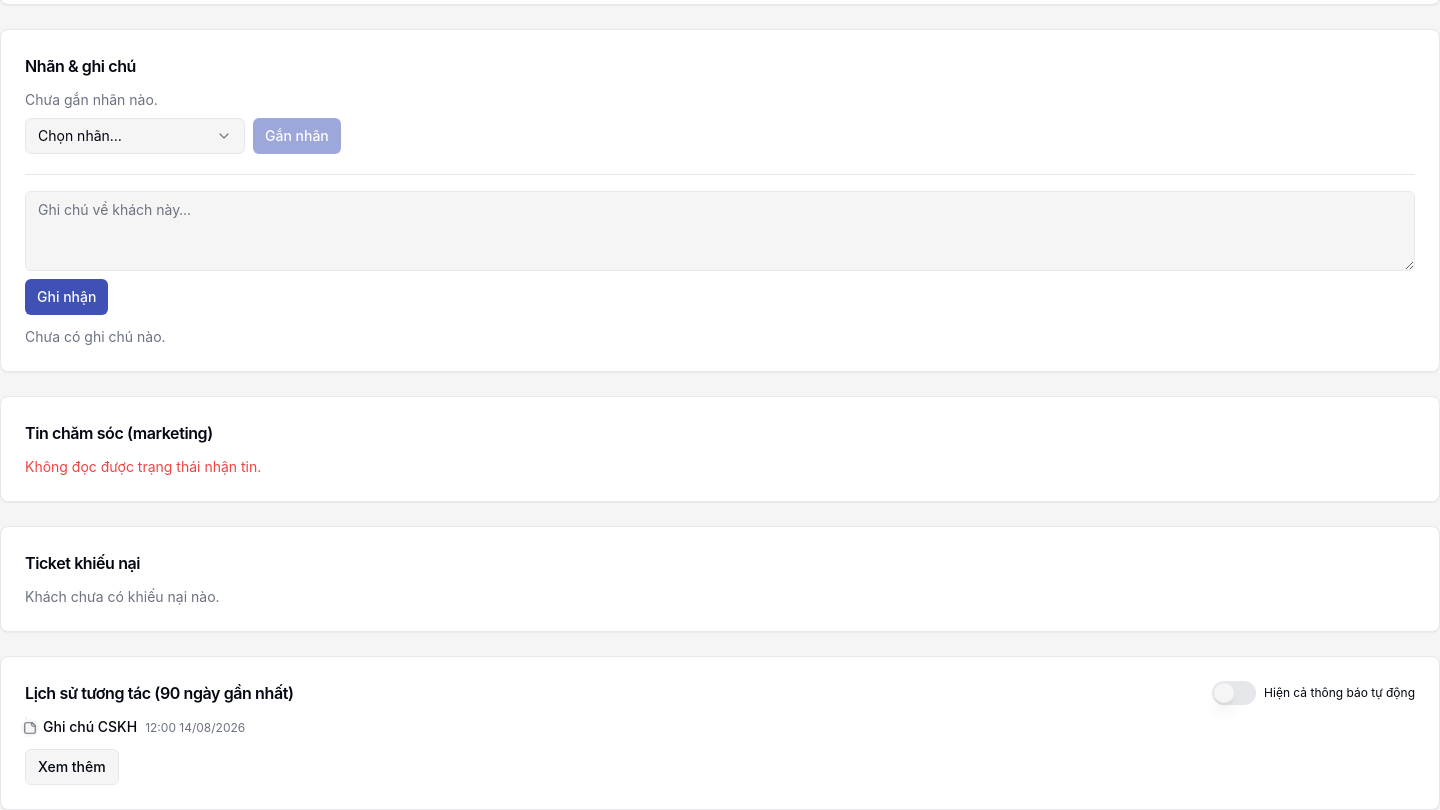
it: /users/detail — khối Timeline (GĐ2) › bấm "Xem thêm" gửi cursor trang trước và NỐI vào danh sách
The image size is (1440, 810).
(page scrolled)
Click the button "Xem thêm" at (72, 767), box [25,749,119,785]
(page scrolled)
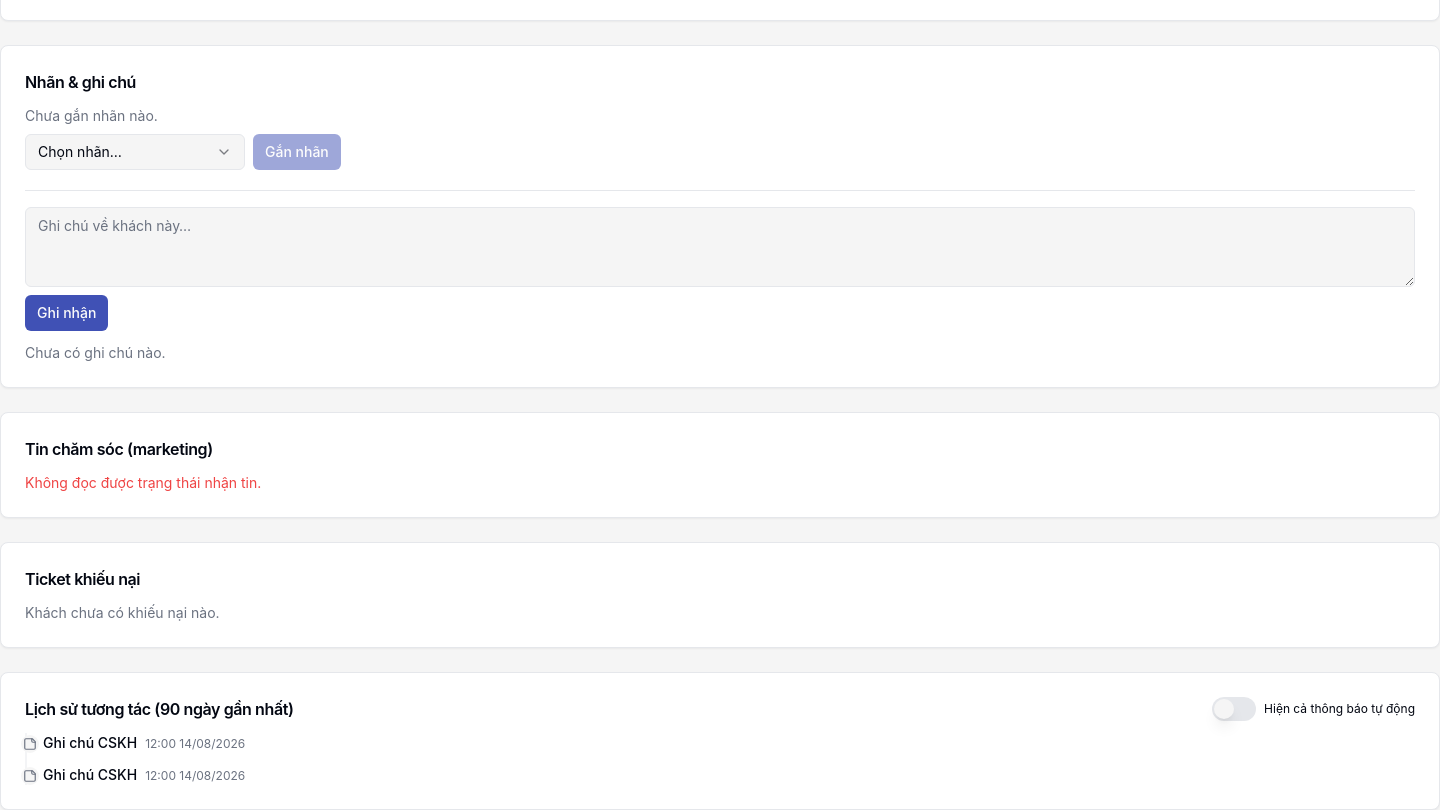
Now the number of list items with test id "crm-timeline-item" is 2, box [43,734,245,751]; [43,766,245,783]
